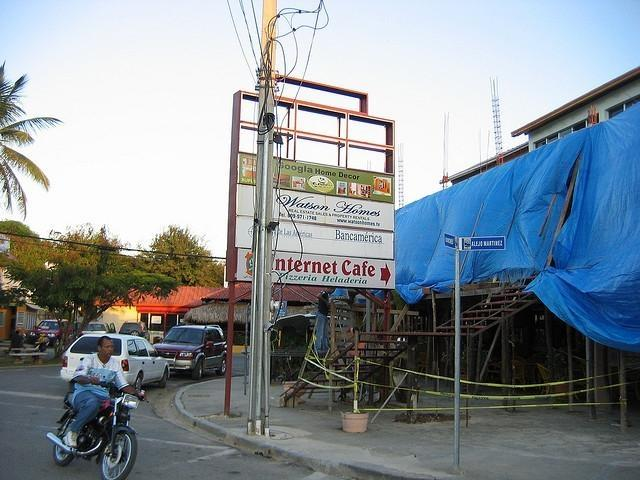car: (61, 333, 170, 392), (155, 324, 225, 378), (28, 318, 73, 348), (119, 320, 151, 343), (76, 322, 106, 340)
motorcycle: (46, 381, 146, 480)
